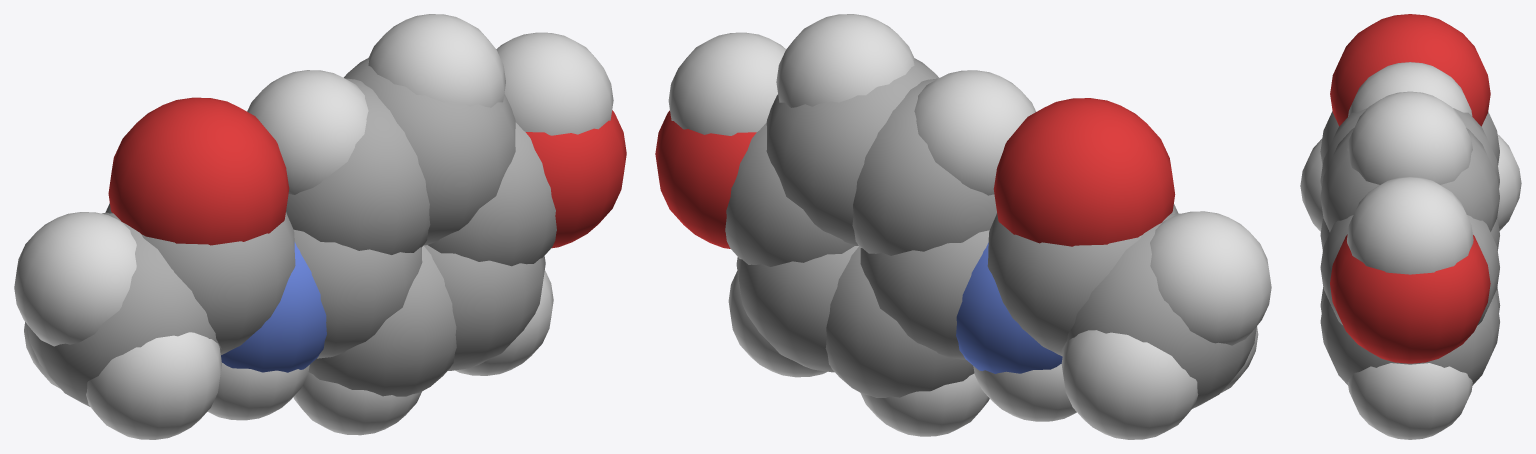
The model's file is paracetamol-cpk.glb.
3 renders of one model, left to right at view 1: azimuth 30°, elevation 25°; view 2: azimuth 150°, elevation 25°; view 3: azimuth 270°, elevation 25°, orthographic. The views are drawn at different scales.
Parts seen in each view (by area): view 1: paracetamol-cpk; view 2: paracetamol-cpk; view 3: paracetamol-cpk.
Part boxes in pixels (bbox=[...]): paracetamol-cpk: bbox=[14, 14, 626, 439]; paracetamol-cpk: bbox=[655, 14, 1271, 439]; paracetamol-cpk: bbox=[1300, 14, 1521, 439].
Bounding box in the file's own units: 11.36 × 7.13 × 4.19.
